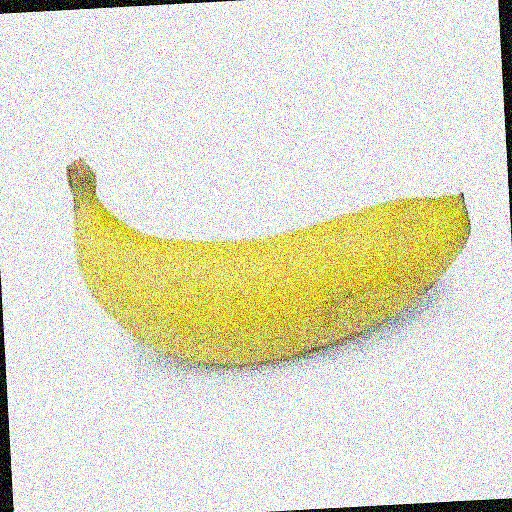fruit: (29, 75, 118, 323)
